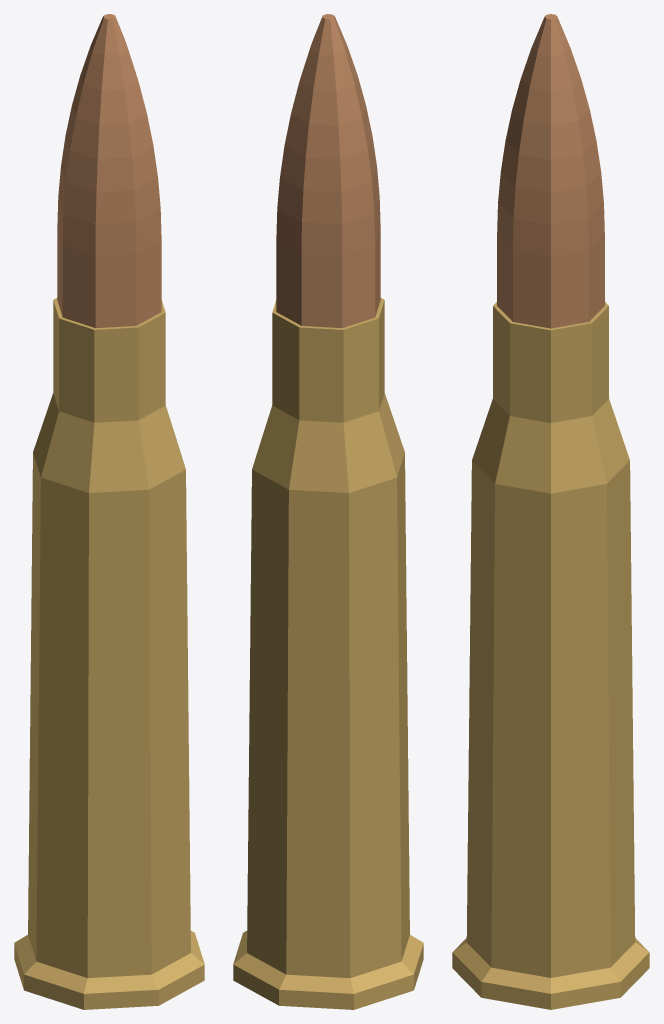
File: round_762x54R.glb
3 renders of one model, left to right at view 1: azimuth 30°, elevation 25°; view 2: azimuth 150°, elevation 25°; view 3: azimuth 270°, elevation 25°, orthographic.
Visible parts, largest first — view 1: round_762x54R; view 2: round_762x54R; view 3: round_762x54R.
Part boxes in pixels (x1,y1,x2,y2): round_762x54R: (14, 14, 204, 1009); round_762x54R: (233, 14, 423, 1009); round_762x54R: (452, 14, 649, 1009).
Size of the model in its own units: 0.0145 by 0.0772 by 0.0145.
